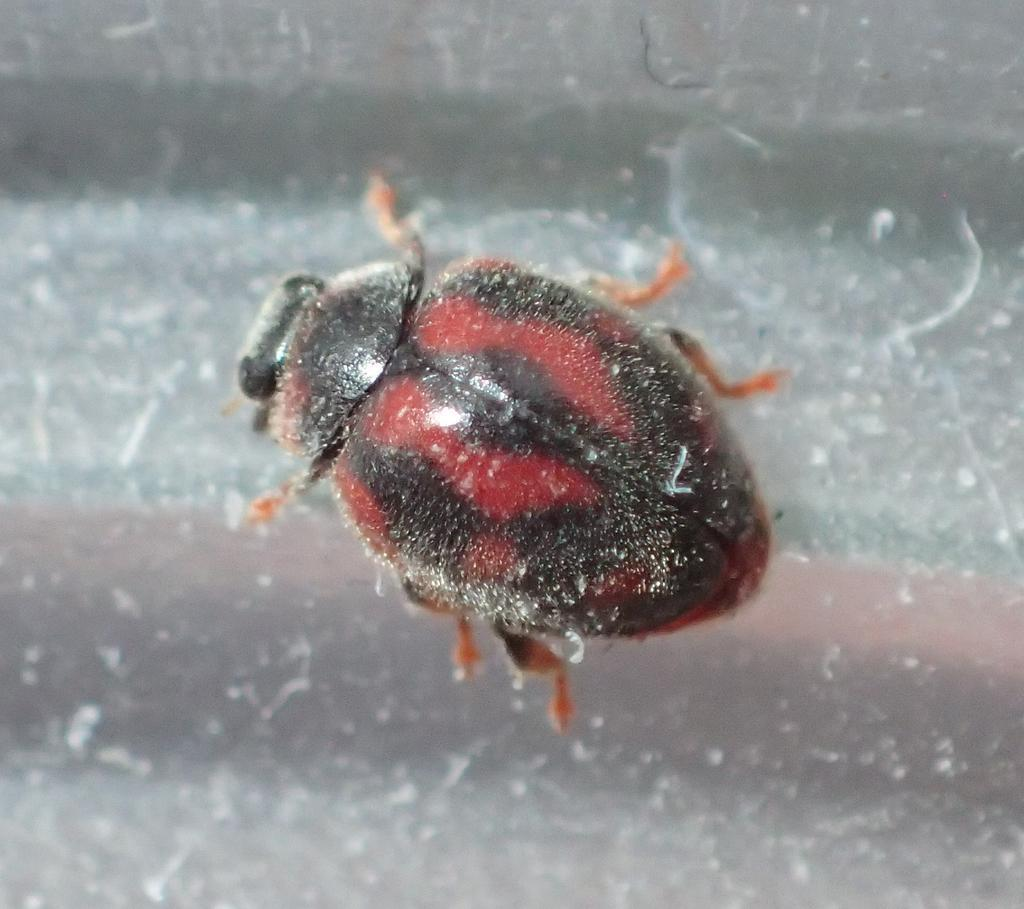ladybug: (221, 171, 799, 734)
